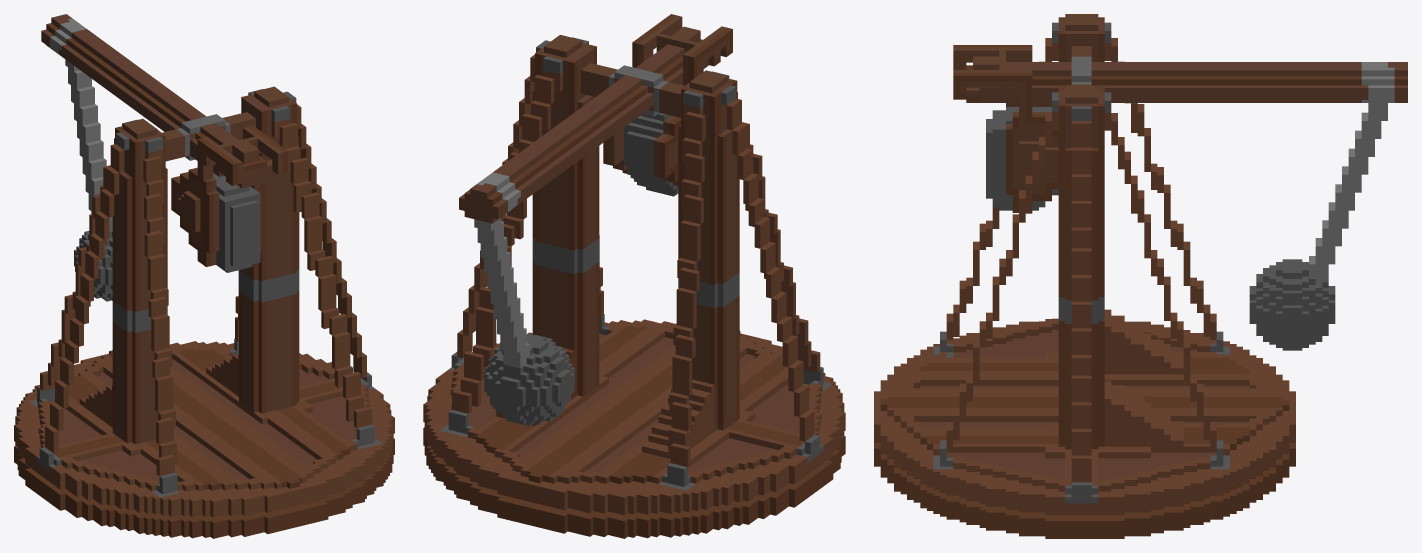
The model's file is trebuchet.fbx.
3 views of the same model, side by side, from view 1: azimuth 30°, elevation 25°; view 2: azimuth 150°, elevation 25°; view 3: azimuth 270°, elevation 25° (orthographic). The views are drawn at different scales.
Visible parts, largest first — view 1: platform, anchor, stick, trebuchet, rope1, rope2, stone; view 2: platform, stick, trebuchet, anchor, stone, rope2, rope1; view 3: platform, stick, trebuchet, anchor, stone, rope2, rope1.
Boxes of the visible parts, left/top/right/bottom form: platform: left=14, top=86, right=394, bottom=517; anchor: left=171, top=125, right=287, bottom=272; stick: left=41, top=14, right=272, bottom=188; trebuchet: left=14, top=438, right=394, bottom=538; rope1: left=65, top=59, right=100, bottom=143; rope2: left=79, top=139, right=112, bottom=220; stone: left=74, top=220, right=112, bottom=301; platform: left=423, top=35, right=845, bottom=515; stick: left=459, top=26, right=708, bottom=223; trebuchet: left=423, top=427, right=845, bottom=538; anchor: left=603, top=14, right=732, bottom=196; stone: left=484, top=334, right=574, bottom=425; rope2: left=490, top=282, right=529, bottom=368; rope1: left=474, top=218, right=513, bottom=292; platform: left=874, top=14, right=1295, bottom=514; stick: left=966, top=50, right=1407, bottom=105; trebuchet: left=874, top=442, right=1295, bottom=538; anchor: left=953, top=45, right=1058, bottom=212; stone: left=1249, top=259, right=1335, bottom=350; rope2: left=1309, top=184, right=1354, bottom=282; rope1: left=1342, top=103, right=1387, bottom=192.
Bounding box in the file's own units: 640 × 810 × 660.
